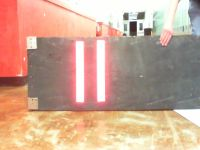switch: (95, 40, 107, 103), (75, 41, 85, 103)
